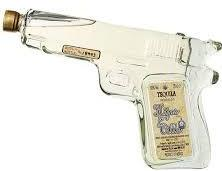gun: (1, 1, 222, 171)
